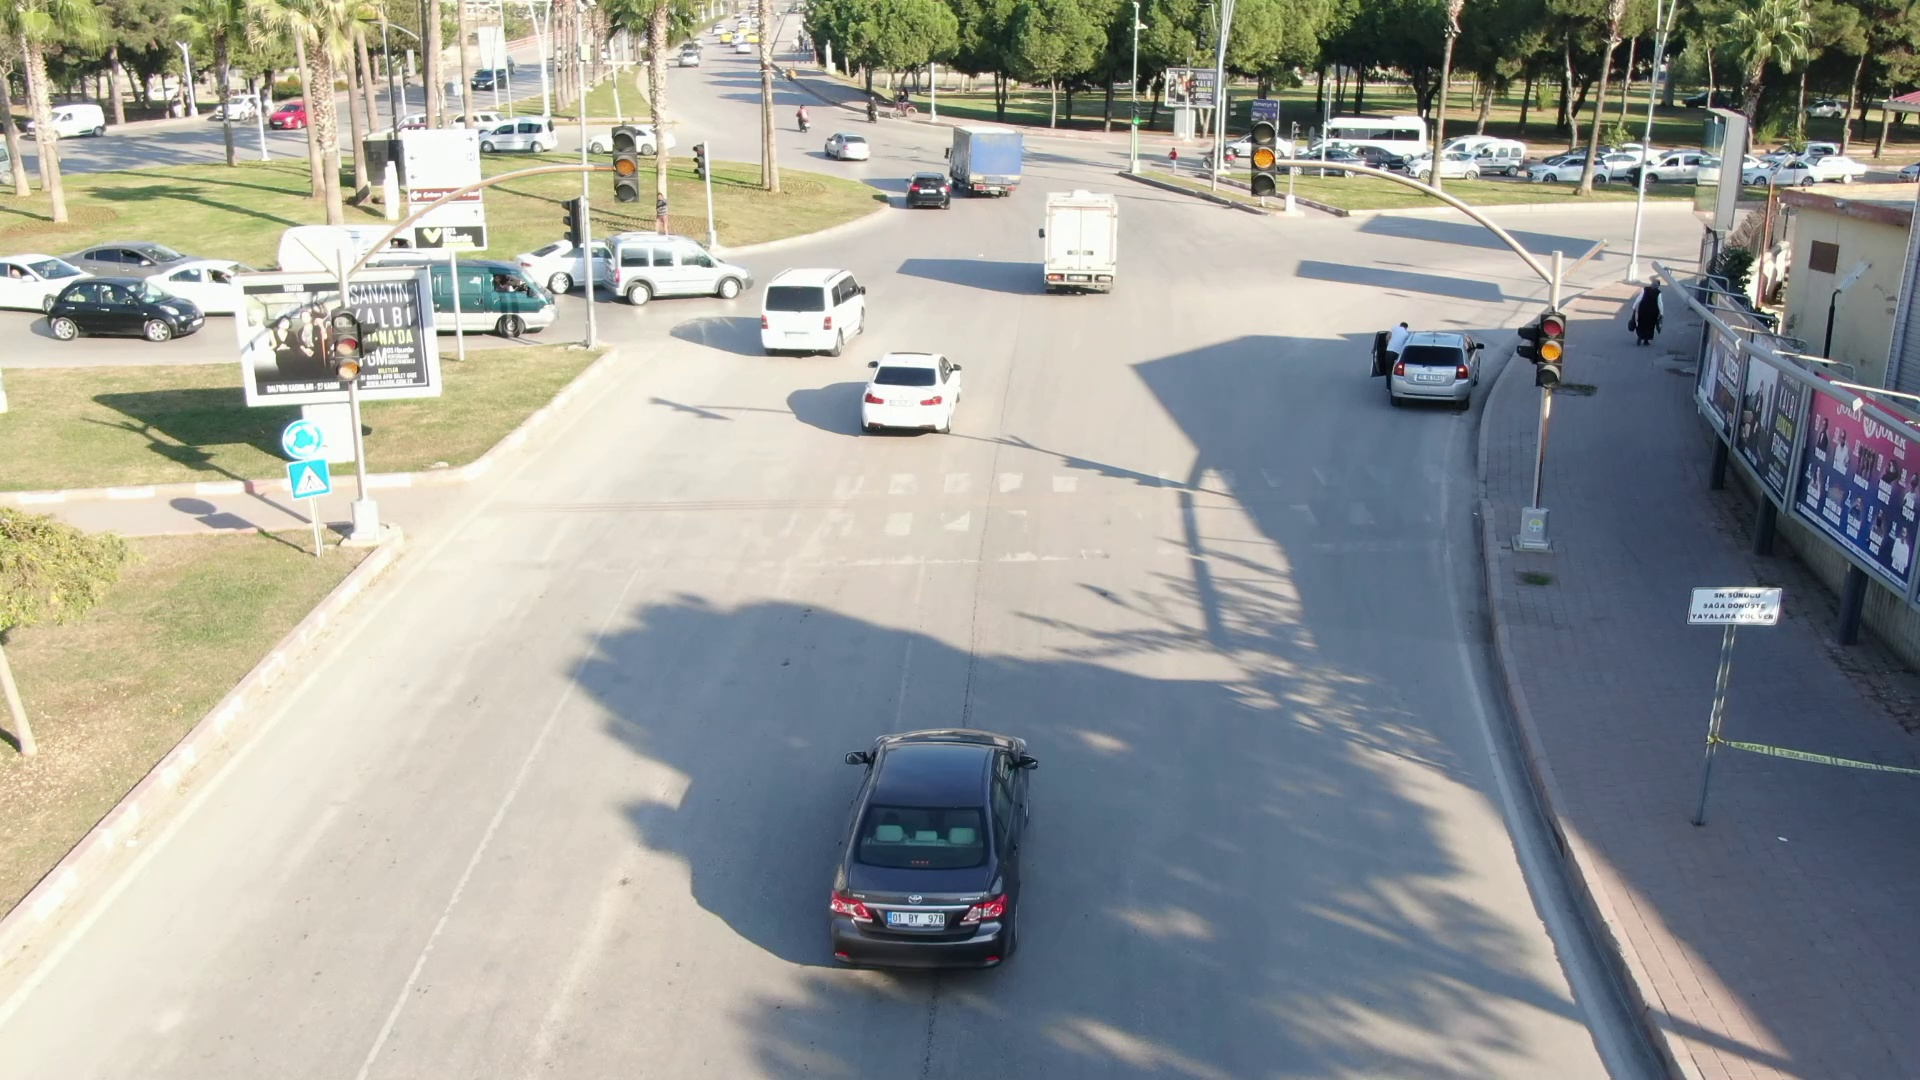car: (802, 709, 1137, 984), (41, 268, 216, 350), (1033, 173, 1140, 306), (597, 227, 761, 309), (855, 342, 976, 450), (745, 265, 875, 365), (1390, 334, 1495, 409), (940, 121, 1039, 197), (900, 163, 967, 215)
person: (1615, 272, 1682, 356)
